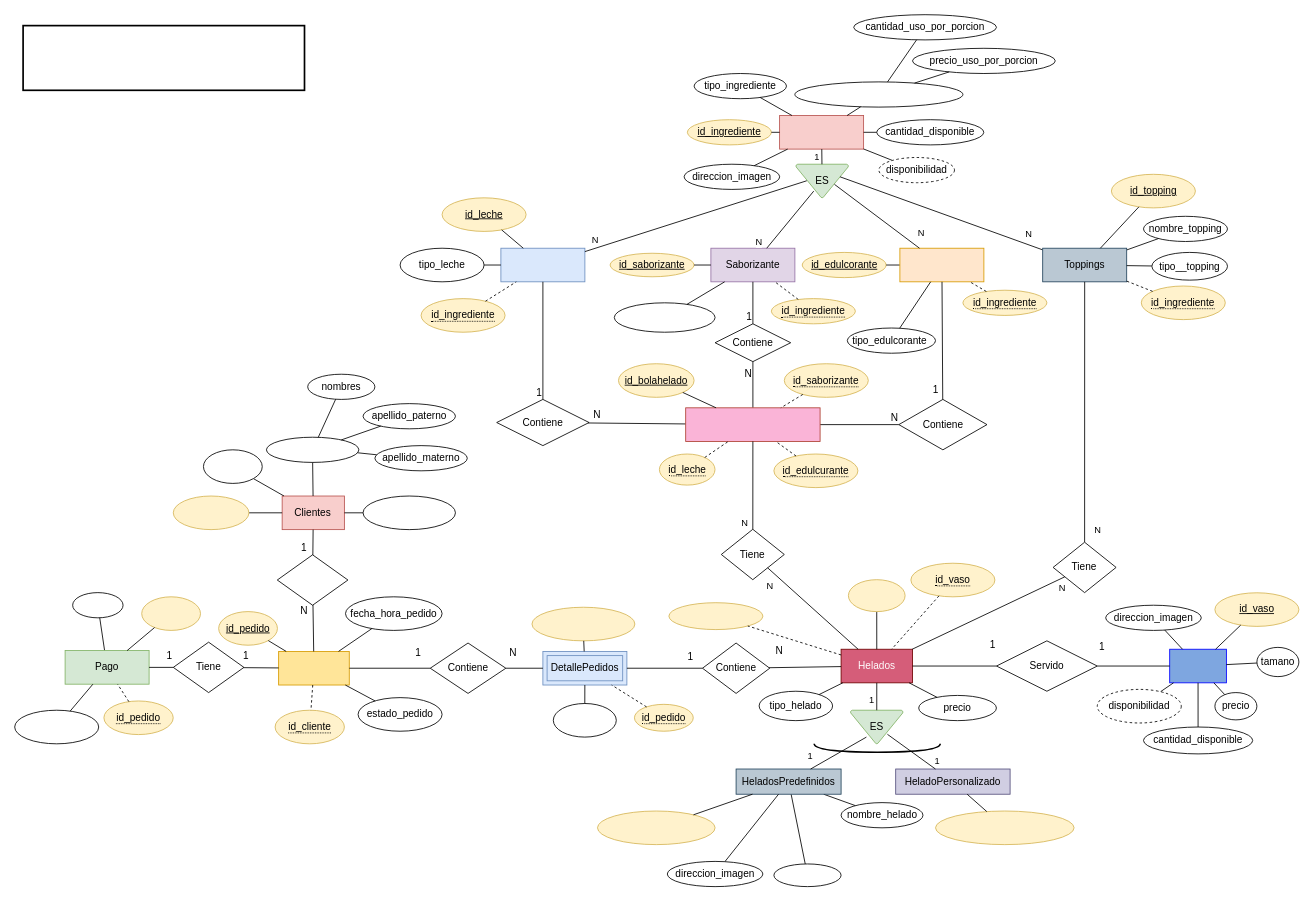
Image size: 1314x901. Some labels were removed from this diagram. The shapes that lost their labels are listed below. From the top down, each one's centre as x and y in pixels, then its label:
(x=163, y=57): Diagrama Entidad - Relacion GRUPO #3
(x=878, y=94): informacion_uso_por_porcion
(x=821, y=132): Ingredientes
(x=542, y=264): Leches
(x=941, y=264): Edulcorantes
(x=664, y=317): nombre_saborizante
(x=752, y=424): BolaDeHelado
(x=232, y=466): telefono
(x=312, y=449): nombre_completo
(x=210, y=512): carnet de identidad
(x=408, y=512): correo_electronico
(x=312, y=579): Realiza
(x=876, y=595): id_helado
(x=97, y=605): total
(x=171, y=613): id_pago
(x=583, y=623): id_detalle_pedidos
(x=715, y=616): id_detalle_pedido
(x=313, y=668): Pedidos
(x=1197, y=665): Vasos
(x=56, y=726): metodo_pago
(x=584, y=720): cantidad
(x=656, y=827): id_helado_predefinido
(x=1004, y=827): id_helado_personalizado
(x=807, y=875): descripcion
